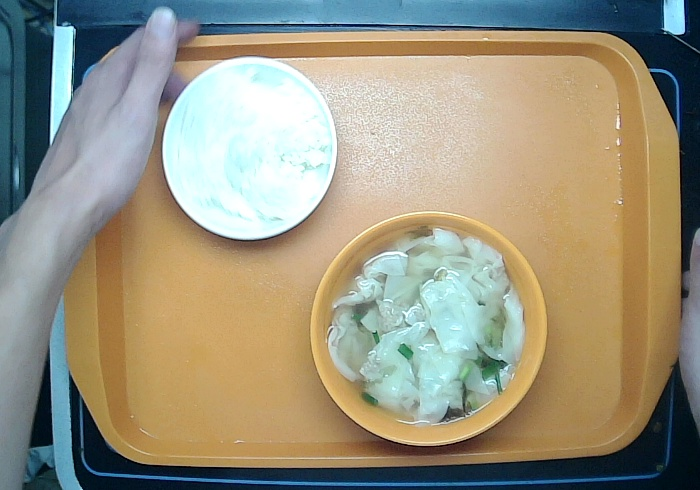NLDX-Fan_Wan: (160, 53, 339, 243)
NLDX-Hun_Tun_Wan: (307, 209, 550, 453)
